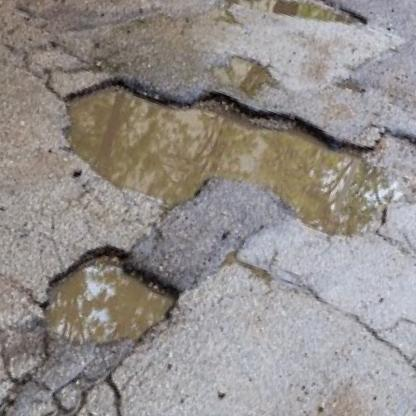pothole: (35, 6, 416, 320), (29, 225, 191, 373), (215, 0, 378, 57)
